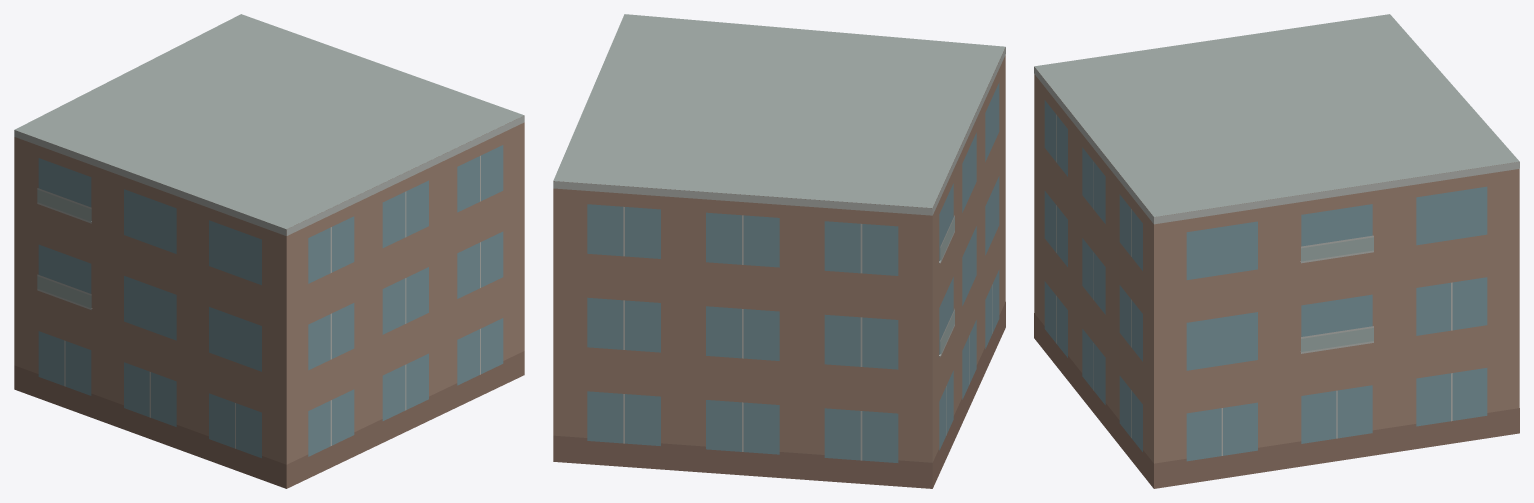
Rendered from survey-upis-32800149.glb.
The picture shows the model from 3 angles, left to right: view 1: azimuth 30°, elevation 25°; view 2: azimuth 150°, elevation 25°; view 3: azimuth 270°, elevation 25°; orthographic projection. The views are drawn at different scales.
Visible parts, largest first — view 1: survey-upis-32800149.tmp; view 2: survey-upis-32800149.tmp; view 3: survey-upis-32800149.tmp.
Boxes of the visible parts, x1,y1,x2,y2 form: survey-upis-32800149.tmp: (14,14,524,488); survey-upis-32800149.tmp: (553,14,1005,488); survey-upis-32800149.tmp: (1034,14,1519,488).
Bounding box in the file's own units: 14.68 × 9.15 × 14.83.
